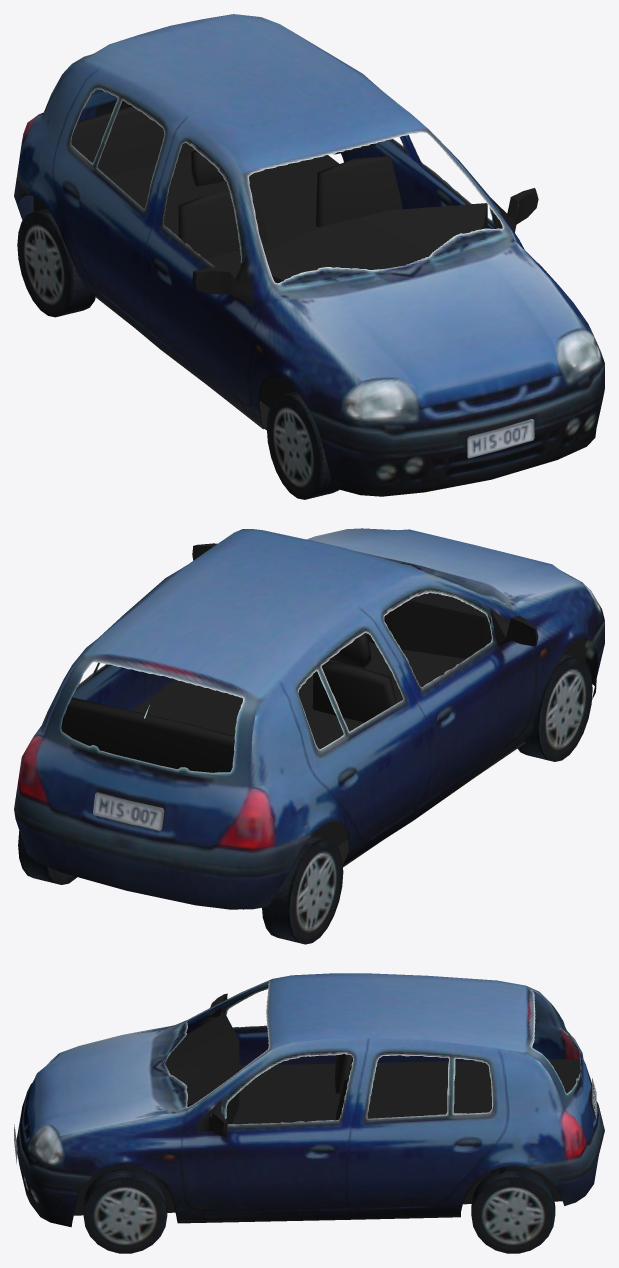
Rendered from lwpg010.obj.
3 views of the same model, one above another, from view 1: azimuth 30°, elevation 25°; view 2: azimuth 150°, elevation 25°; view 3: azimuth 270°, elevation 25° (orthographic). The views are drawn at different scales.
Parts seen in each view (by area): view 1: lwpg010; view 2: lwpg010; view 3: lwpg010.
Boxes of the visible parts, <box> form: lwpg010: <box>14,14,604,499</box>; lwpg010: <box>14,528,604,944</box>; lwpg010: <box>14,973,604,1253</box>.
Size of the model in its own units: 1.99 by 1.44 by 3.81.
Materials: 2 (1 with a texture image).
